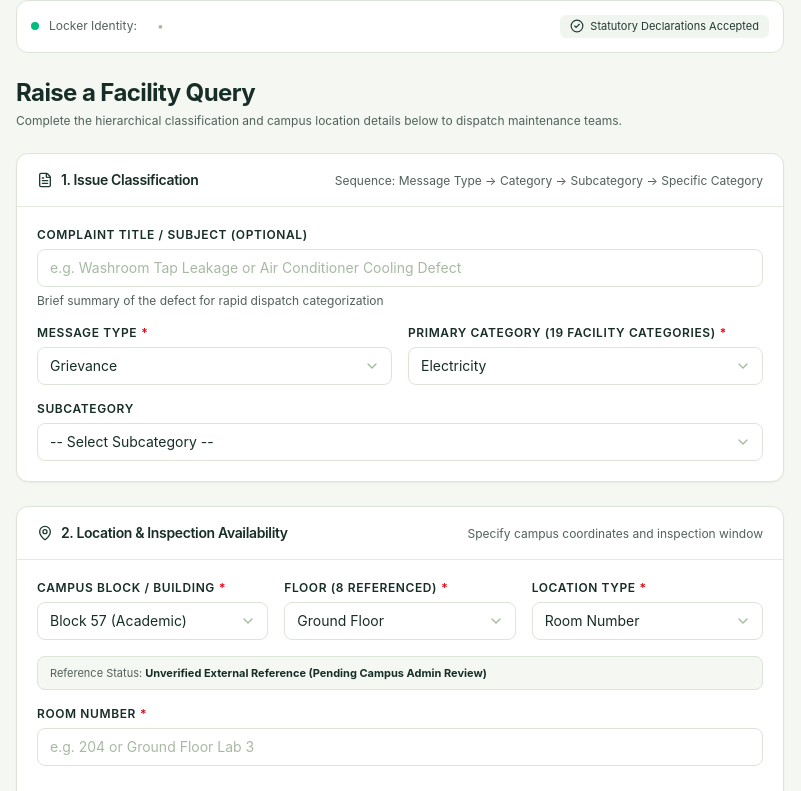
FIPP 2.0 Phase 8 & Phase 9 QA Frontend Regressions › 4. RaiseQueryPage resets floor and room on block change and handles unknown floor counts without fabrication
The image size is (801, 791).
Check: the heading "Raise a Facility Query" is shown, box [16,78,255,107]
Select "Block 3 (Academic)" in the dropdown labelled "Campus Block / Building*". click: (153,621)
box: [37,602,268,640]
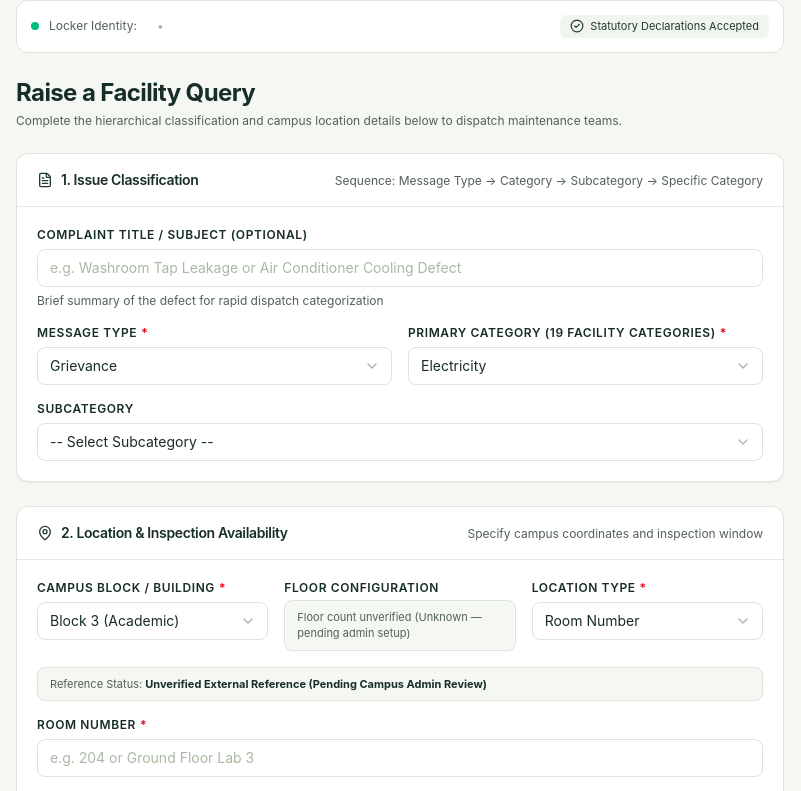
Check: the text "Floor count unverified (Unknown — pending admin setup)" is shown, box [284,600,516,651]
